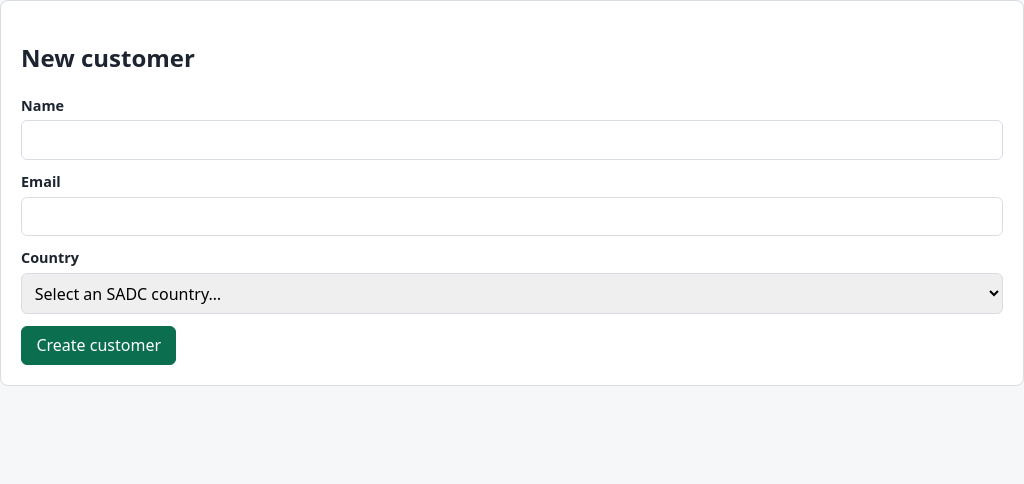
Test: CreateCustomerForm › shows a general alert for non-field errors
In the field labelled "Name": (512, 140) [21,120,1003,160], type "Reader"
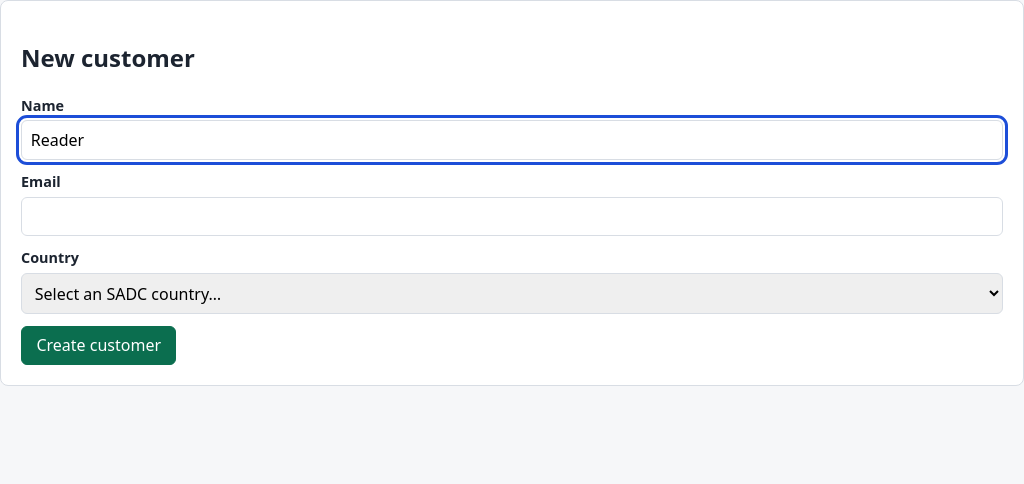
In the field labelled "Email": (512, 217) [21,197,1003,236], type "reader@example.za"
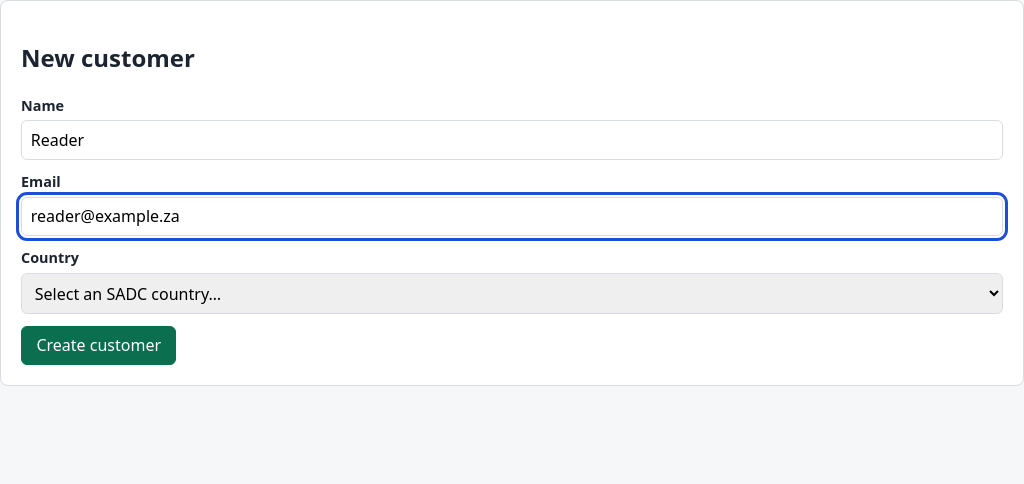
Select "South Africa (ZA)" in the dropdown labelled "Country": (512, 294) [21,273,1003,314]
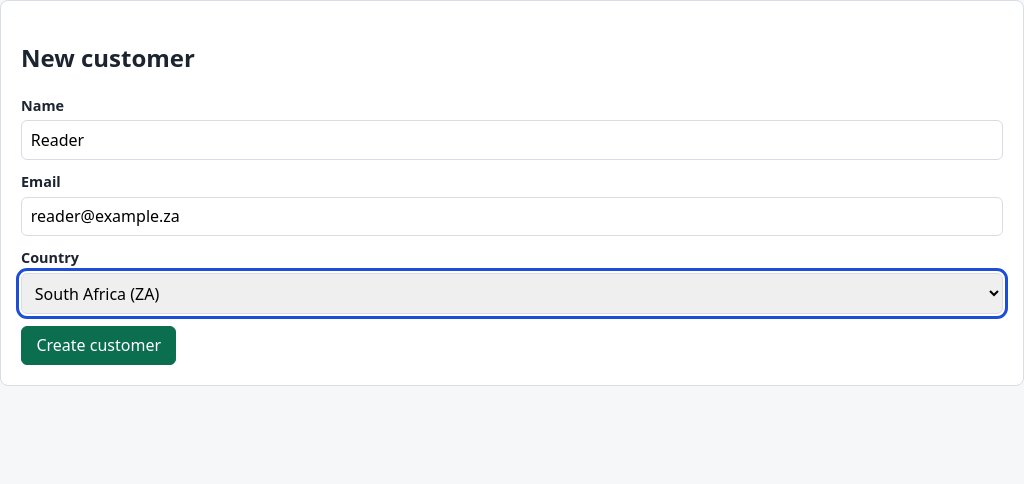
Click the button "Create customer": (99, 346) [21,326,176,365]
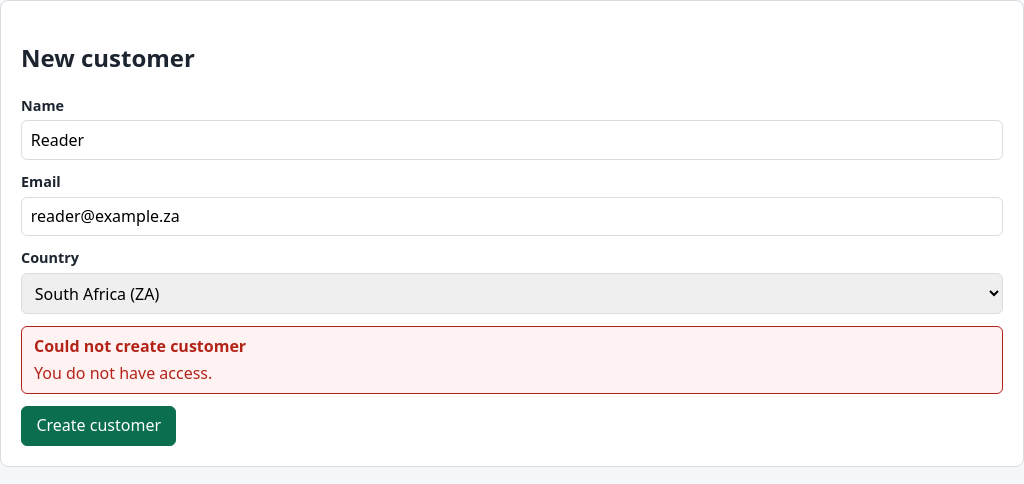
Expected: the message shows "You do not have access.", [34,362,212,384]
